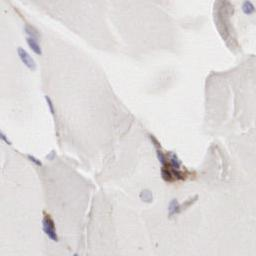nucleus: (18, 47, 35, 69), (26, 38, 42, 54), (242, 1, 254, 15), (24, 28, 39, 39), (46, 95, 54, 114), (27, 156, 42, 166), (140, 190, 152, 202), (1, 132, 12, 145), (45, 227, 55, 239), (169, 198, 178, 211), (155, 151, 164, 163), (173, 154, 180, 166), (46, 150, 55, 159)
positive_cell: (170, 150, 188, 180), (42, 210, 57, 242), (150, 137, 167, 165), (160, 169, 169, 180)
